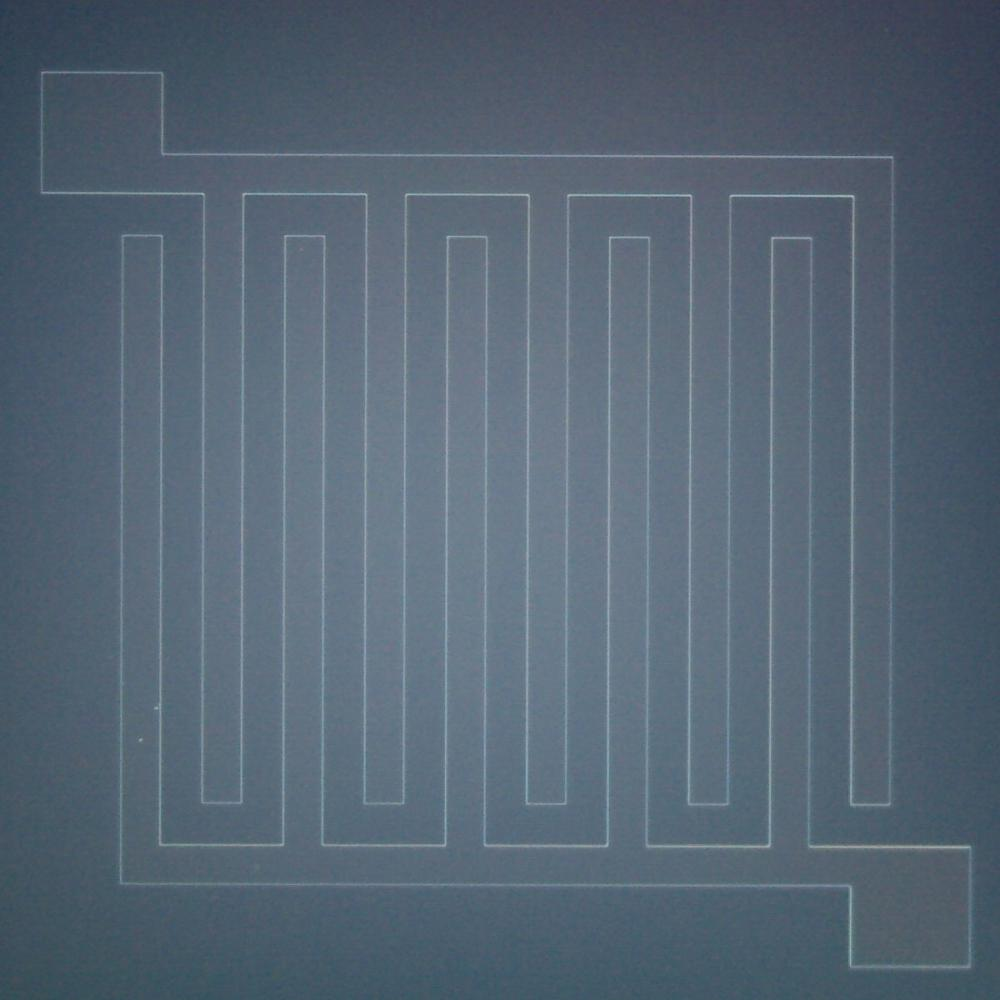dot: (138, 738, 144, 742), (154, 706, 158, 710)
